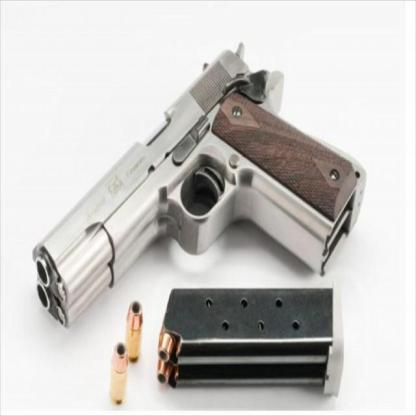weapon: (30, 41, 367, 329)
